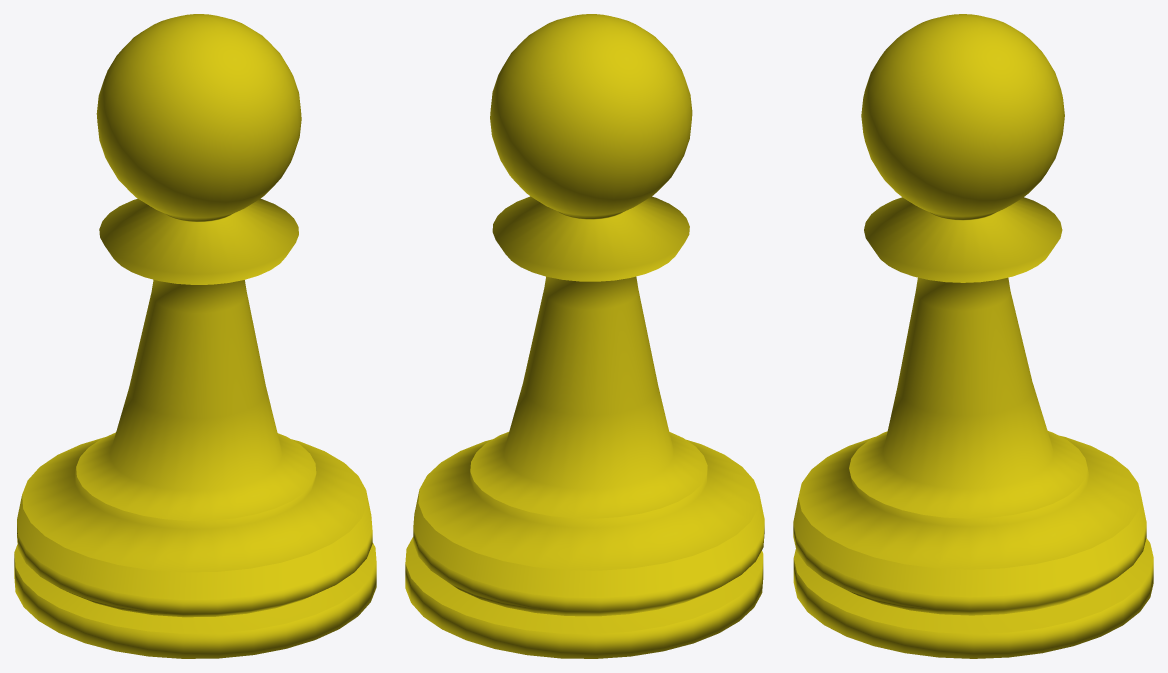
File: yellow1.glb
3 views of the same model, side by side, from view 1: azimuth 30°, elevation 25°; view 2: azimuth 150°, elevation 25°; view 3: azimuth 270°, elevation 25° (orthographic).
Parts seen in each view (by area): view 1: Sphere_0; view 2: Sphere_0; view 3: Sphere_0.
Boxes of the visible parts, x1,y1,x2,y2 form: Sphere_0: (14, 14, 376, 658); Sphere_0: (405, 14, 764, 658); Sphere_0: (793, 14, 1153, 658).
Size of the model in its own units: 2.83 by 4.84 by 2.83.
